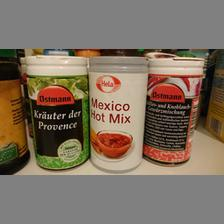Gewuerze: (22, 54, 90, 170), (88, 54, 148, 174), (141, 57, 203, 167)
